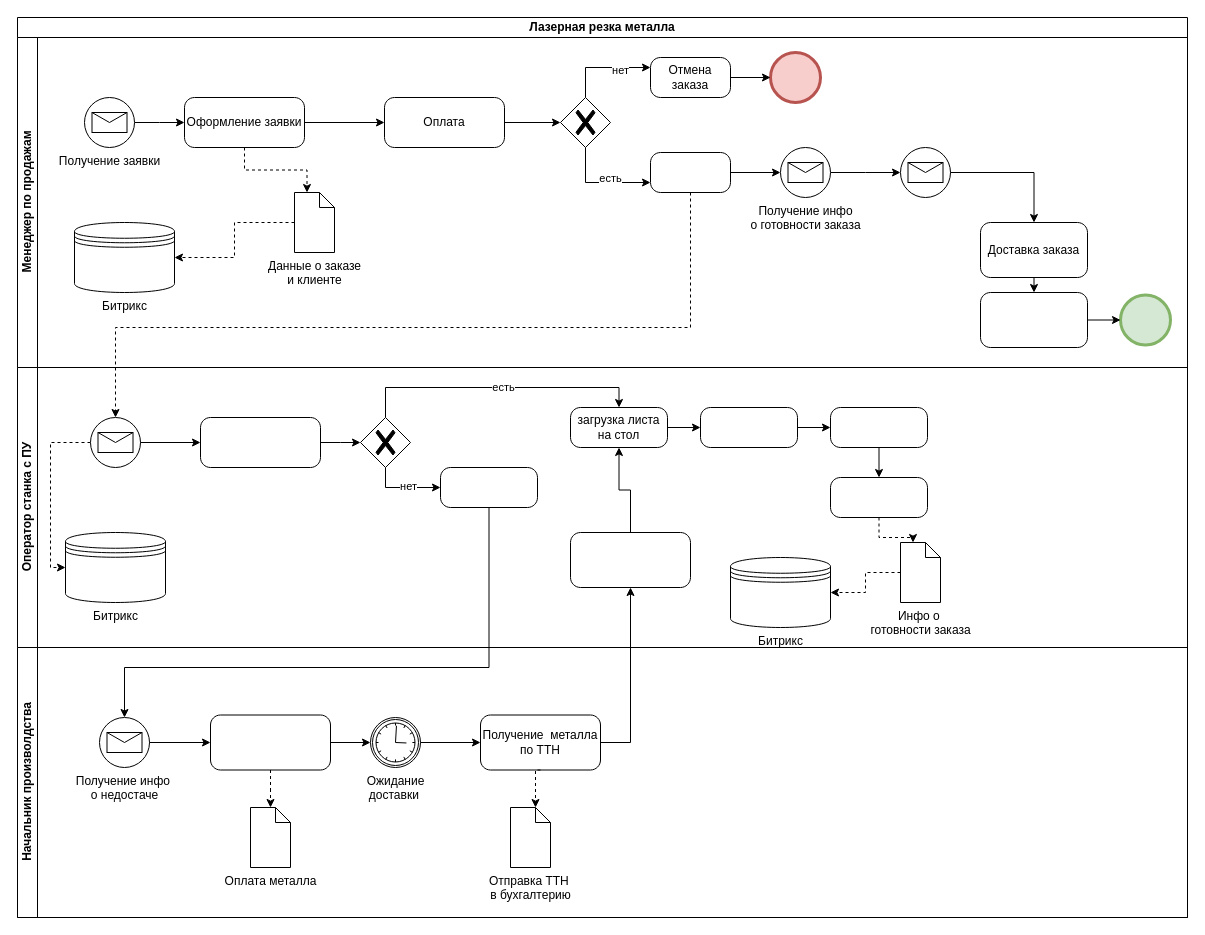
Some shapes in this 1205 by 935 pixel diagram are drawn without their labels. Here are the shapes that lost their labels. From the top down, the centre of each, then its label:
the point at 690,172: Оплата получена
the point at 925,172: Сообщение заказчику
the point at 1034,320: Получение и подтверждение заказчиком
the point at 115,442: Получение инфо о заказе
the point at 260,442: Проверка наличия металла
the point at 749,427: подготовка программы резки
the point at 879,427: резка изделий
the point at 489,487: Сообщить нач-ку пр-ва
the point at 879,497: выгрузка готового заказа
the point at 630,560: выгрузка металла в цеху
the point at 270,742: Оформление заявки на заказ металла
